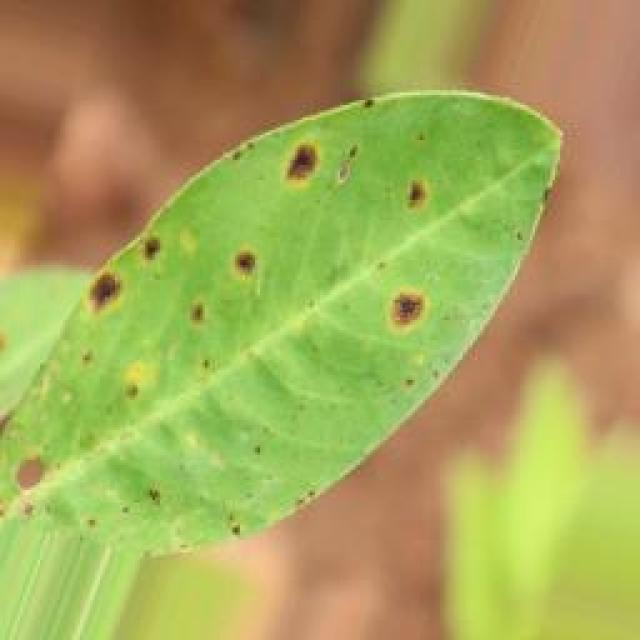Early_leaf_spot: (34, 202, 178, 314), (340, 147, 451, 255), (374, 249, 464, 366), (252, 123, 350, 218), (92, 361, 182, 444), (186, 224, 287, 297), (0, 412, 72, 509), (154, 266, 224, 343)
